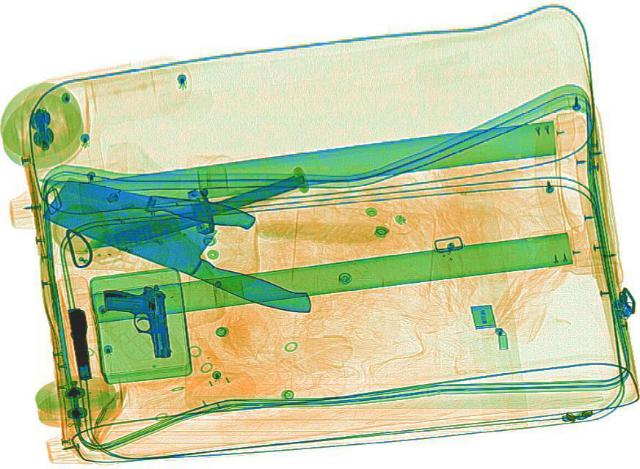Gun: (103, 283, 169, 360), (66, 308, 92, 379)
Knife: (31, 168, 343, 319), (78, 172, 304, 257), (32, 168, 258, 230)
